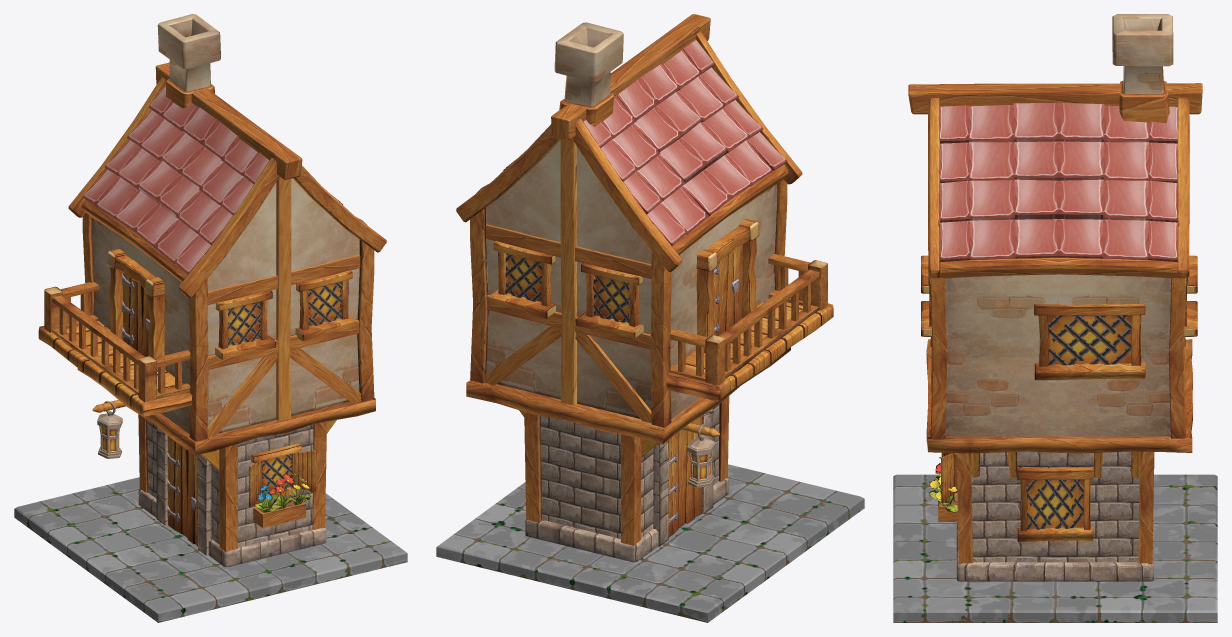
File: med_house_02.fbx
3 renders of one model, left to right at view 1: azimuth 30°, elevation 25°; view 2: azimuth 150°, elevation 25°; view 3: azimuth 270°, elevation 25°, orthographic. The views are drawn at different scales.
Parts seen in each view (by area): view 1: House2; view 2: House2; view 3: House2.
Boxes of the visible parts, x1,y1,x2,y2 form: House2: (14, 14, 407, 622); House2: (436, 14, 864, 622); House2: (893, 14, 1217, 622).
Bounding box in the file's own units: 100 × 184 × 100.
2 materials, 2 textured.
